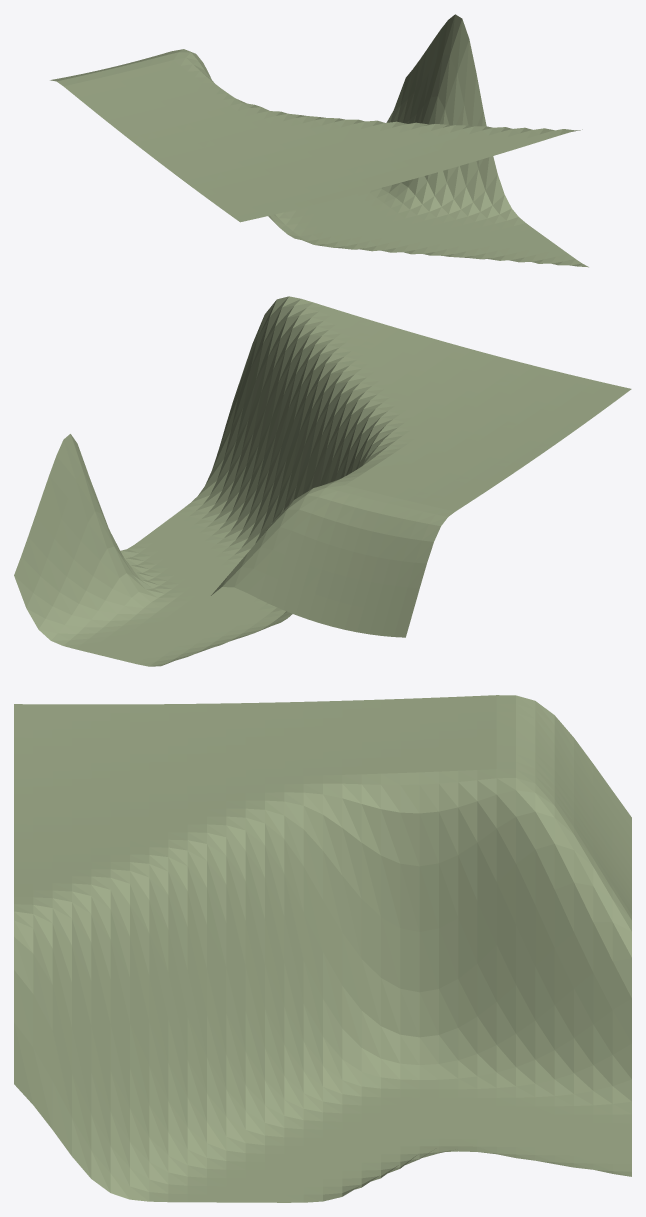
File: canyon-1-2.glb
3 views of the same model, one above another, from view 1: azimuth 30°, elevation 25°; view 2: azimuth 150°, elevation 25°; view 3: azimuth 270°, elevation 25° (orthographic). The views are drawn at different scales.
Parts seen in each view (by area): view 1: canyon-1-2; view 2: canyon-1-2; view 3: canyon-1-2.
Part boxes in pixels (x1,y1,x2,y2): canyon-1-2: (50, 14, 588, 267); canyon-1-2: (14, 296, 631, 666); canyon-1-2: (14, 695, 631, 1202).
Bounding box in the file's own units: 128 × 57.72 × 128.
